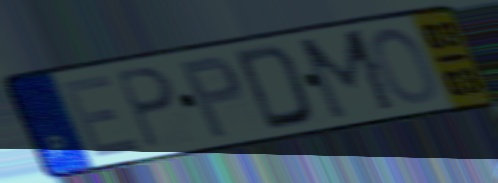D: (232, 41, 316, 133)
E: (57, 70, 147, 161)
M: (294, 25, 402, 125)
O: (368, 25, 439, 106)
P: (176, 53, 246, 142), (111, 64, 179, 152)
